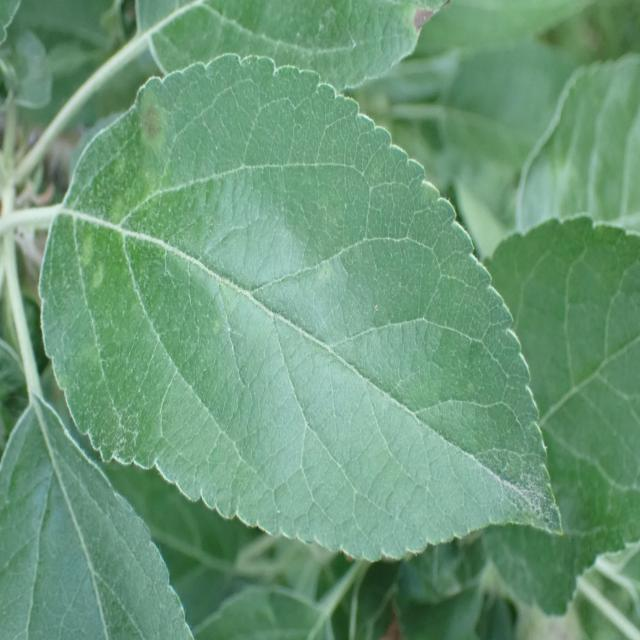scab: (61, 182, 222, 396), (85, 79, 201, 171)
